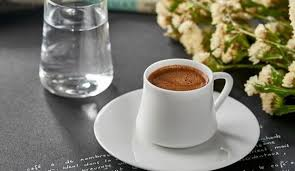kahve: (136, 58, 234, 150)
